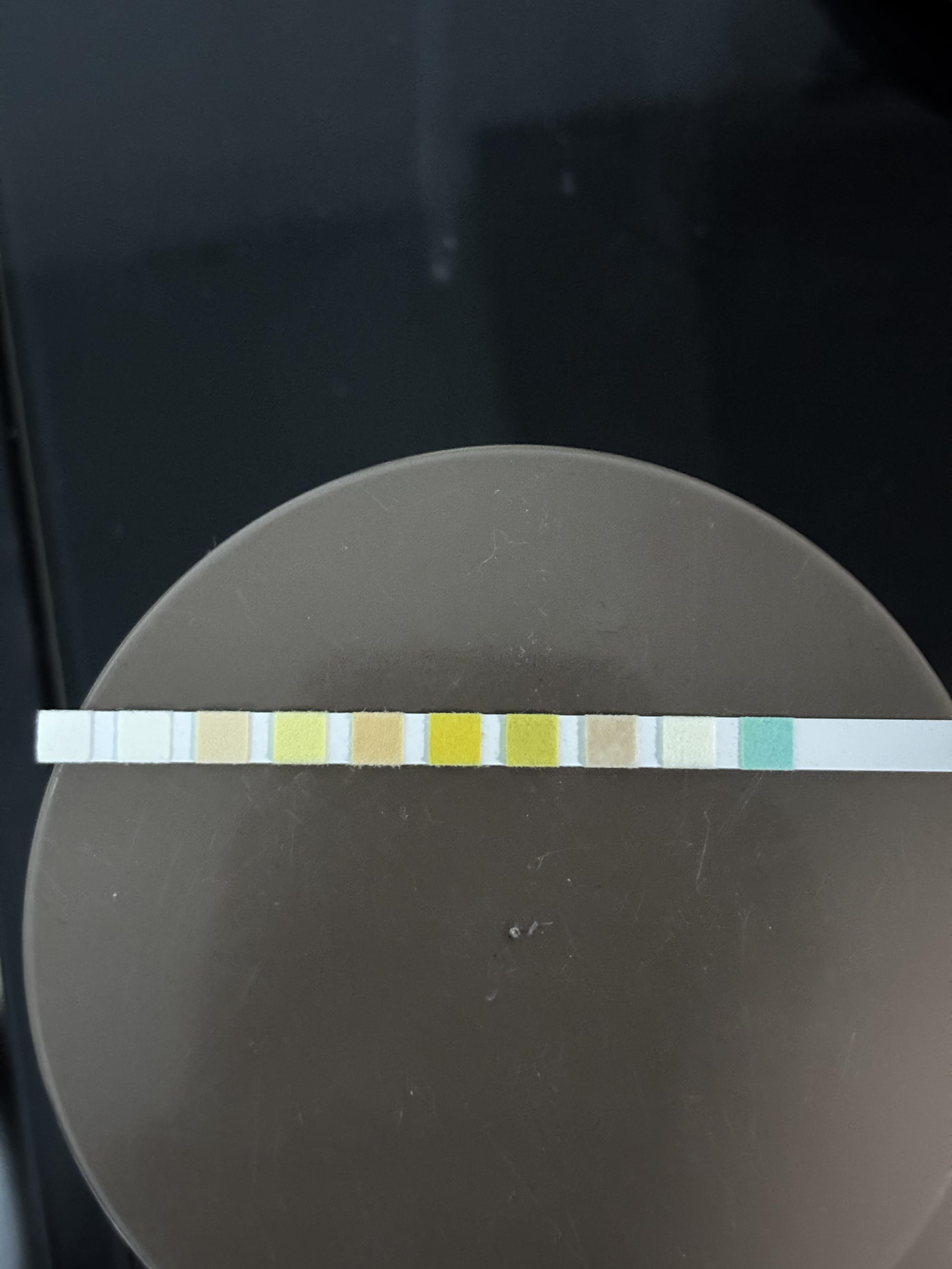Bilirubin: (665, 719, 713, 769)
Blood: (433, 714, 478, 763)
Glucose: (742, 719, 793, 768)
Ketone: (589, 716, 634, 766)
Leukocytes: (40, 712, 89, 761)
Nitrite: (118, 713, 170, 763)
Protein: (276, 712, 324, 763)
SpGravity: (509, 716, 554, 766)
Urobilinogen: (200, 713, 246, 763)
pH: (354, 713, 402, 762)
strip: (37, 710, 938, 771)
